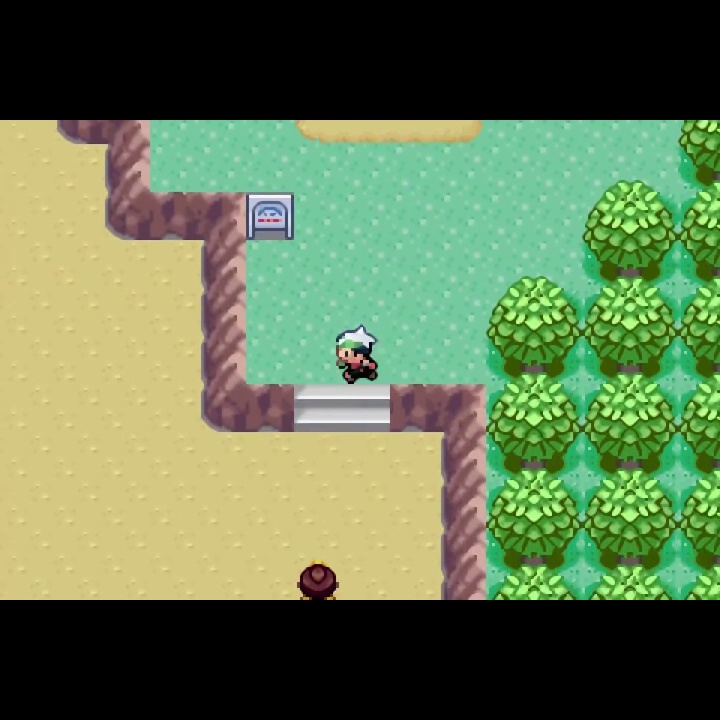npc: (334, 320, 381, 384), (294, 560, 340, 600)
wall: (583, 274, 679, 379), (486, 274, 582, 378), (581, 179, 677, 278), (488, 467, 582, 568), (581, 373, 679, 468), (583, 467, 678, 565), (486, 376, 583, 468), (677, 177, 720, 275), (681, 274, 720, 381), (678, 373, 720, 472), (677, 465, 720, 561), (581, 562, 677, 600), (488, 563, 581, 600), (676, 119, 720, 181), (678, 561, 720, 600)
